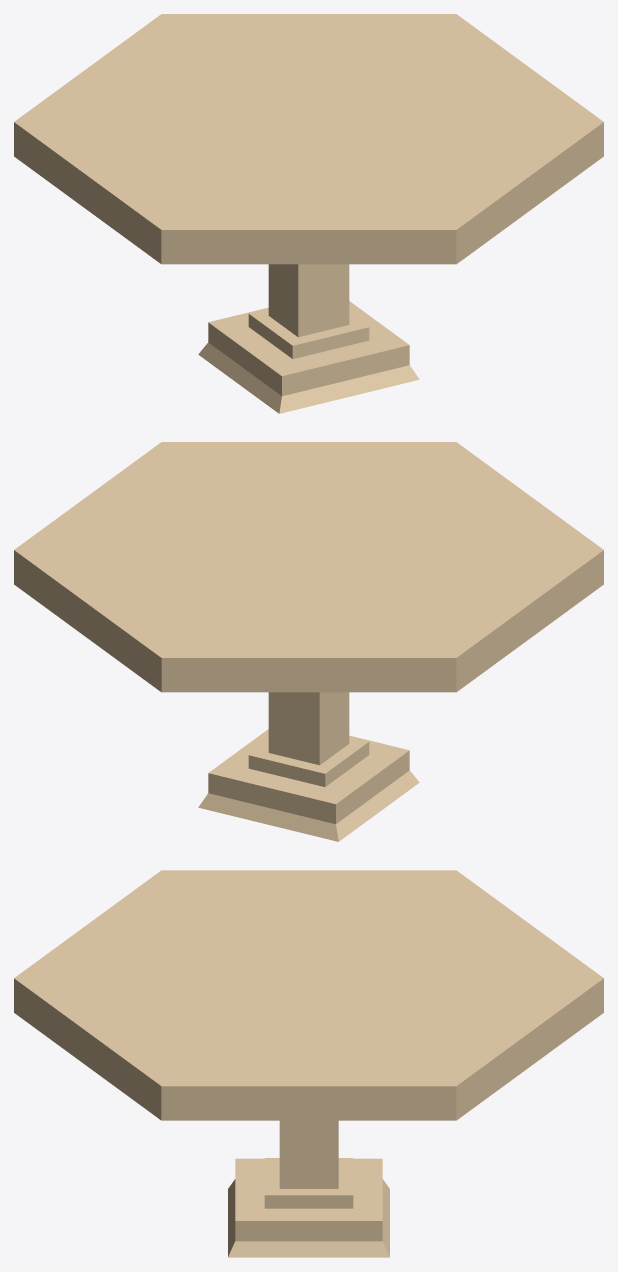
File: table.gltf
3 views of the same model, one above another, from view 1: azimuth 30°, elevation 25°; view 2: azimuth 150°, elevation 25°; view 3: azimuth 270°, elevation 25° (orthographic).
Parts seen in each view (by area): view 1: tableRound; view 2: tableRound; view 3: tableRound.
Part boxes in pixels (box(x1,y1,x2,y2)): tableRound: box(14, 14, 603, 413); tableRound: box(14, 442, 603, 841); tableRound: box(14, 870, 603, 1257).
Size of the model in its own units: 6.93 by 3.67 by 8.
